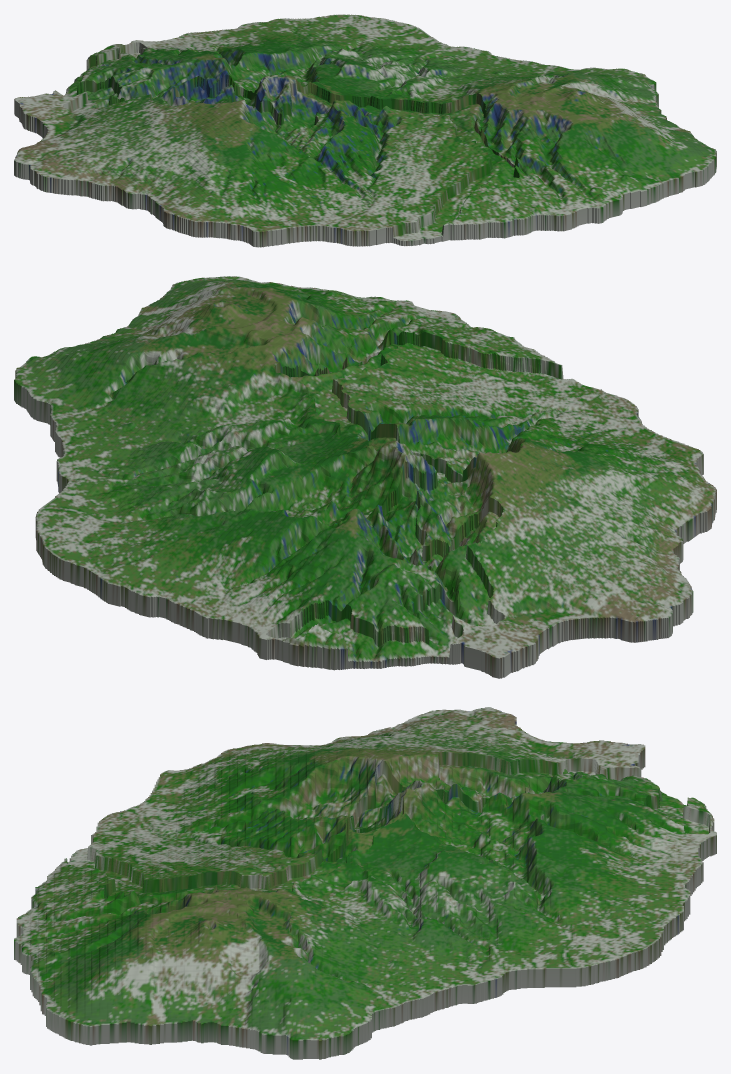
Rendered from model_land_only_gpx_recess.glb.
3 views of the same model, one above another, from view 1: azimuth 30°, elevation 25°; view 2: azimuth 150°, elevation 25°; view 3: azimuth 270°, elevation 25° (orthographic). The views are drawn at different scales.
Visible parts, largest first — view 1: land_only_gpx_recess; view 2: land_only_gpx_recess; view 3: land_only_gpx_recess.
Part boxes in pixels (x1,y1,x2,y2): land_only_gpx_recess: [14, 14, 716, 247]; land_only_gpx_recess: [14, 276, 716, 678]; land_only_gpx_recess: [14, 707, 716, 1059].
Bounding box in the file's own units: 116 × 12.94 × 104.
